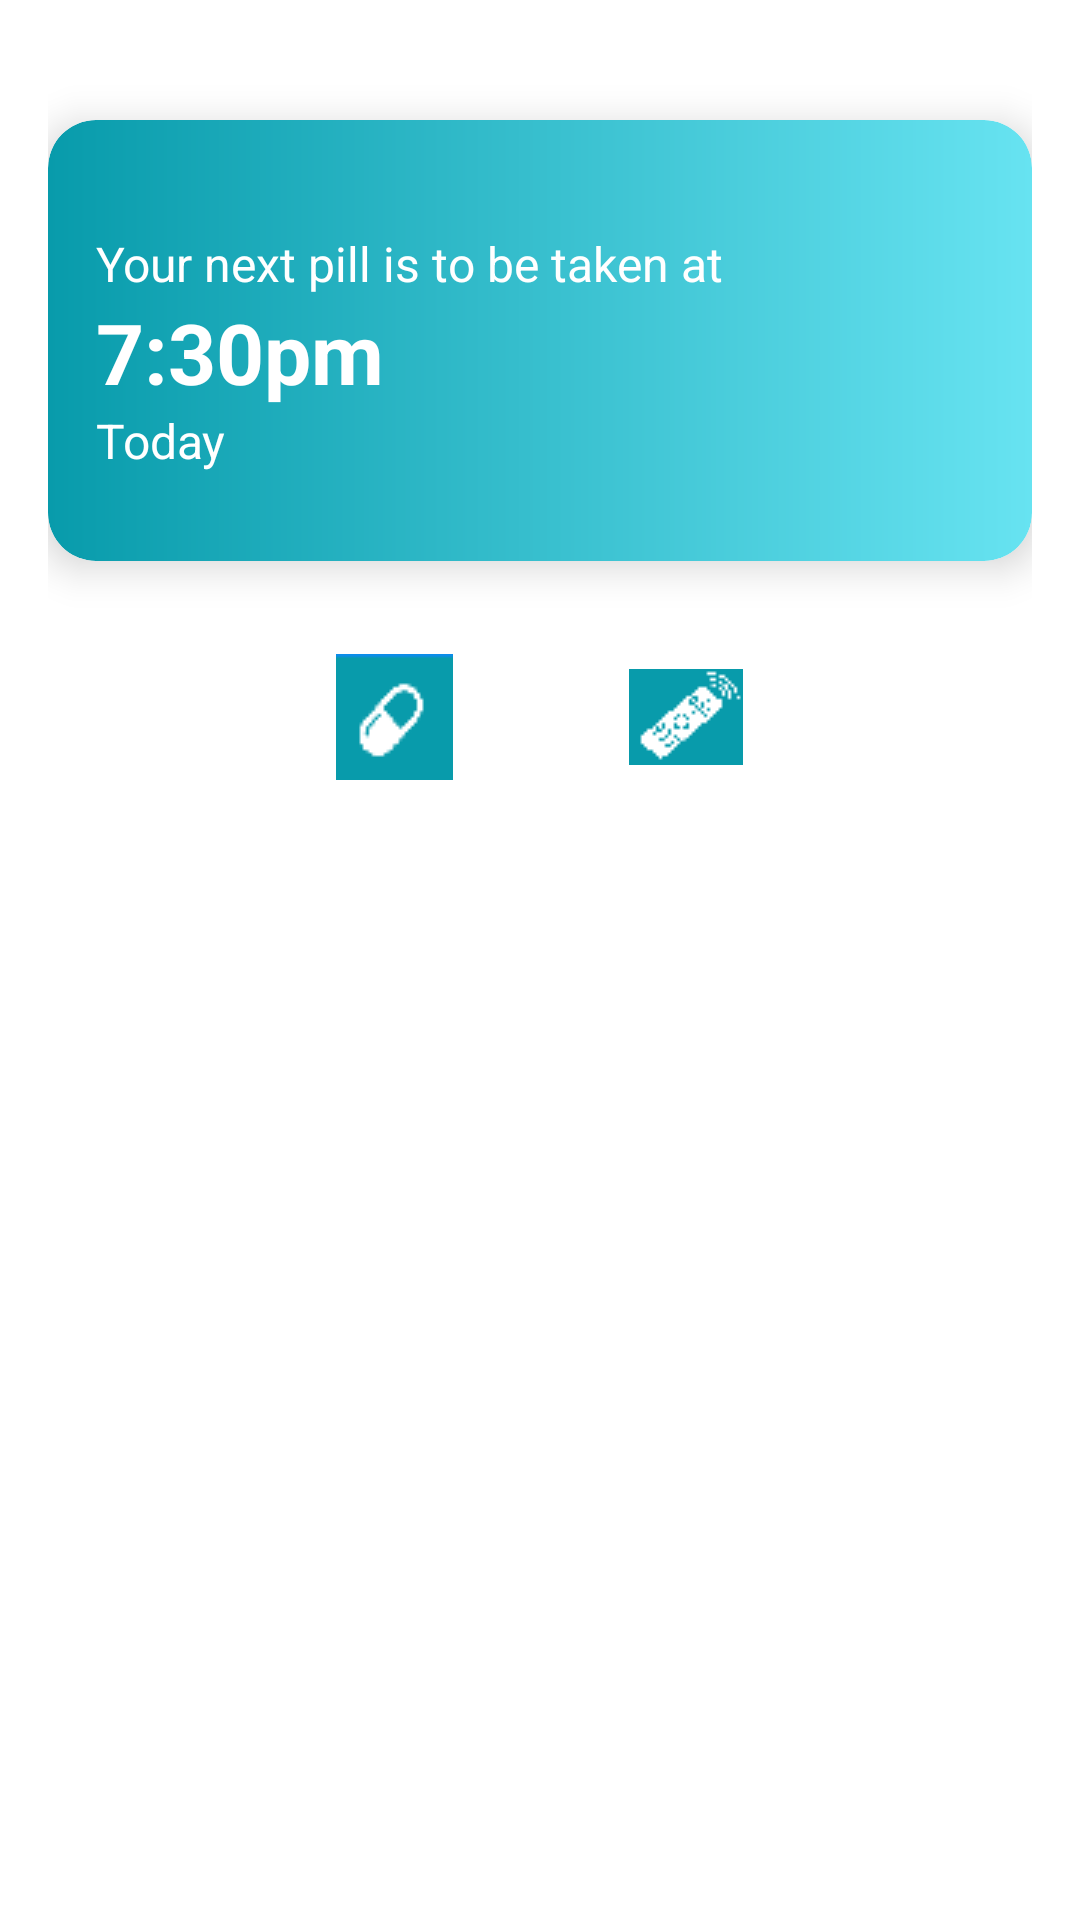

Screen size 1080×1920. Icon name, then its box in pixels as (x1, y1, x2, y2):
pill: (336, 654, 453, 780)
remote: (629, 669, 743, 765)
